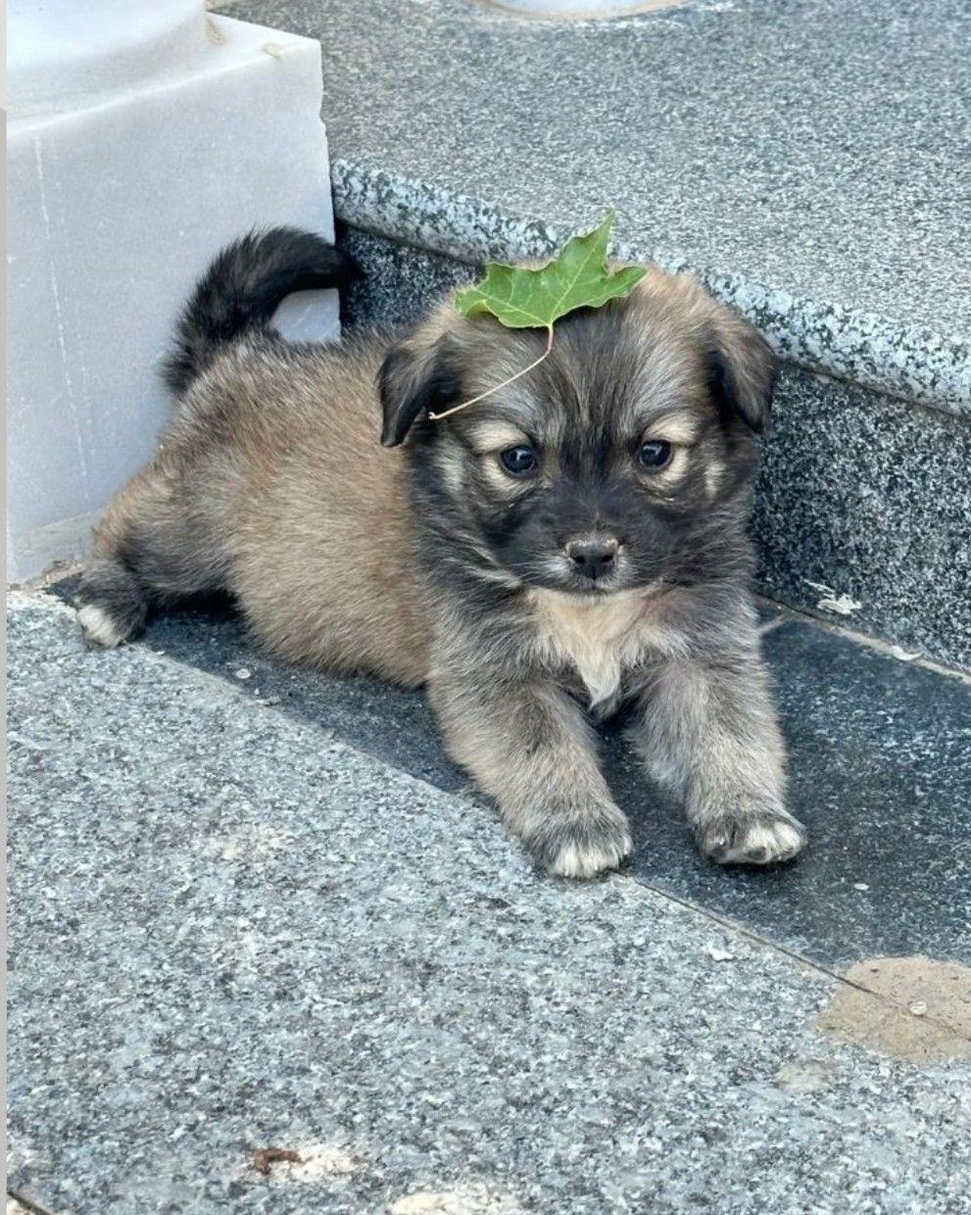puppy-dog: (59, 225, 817, 890)
